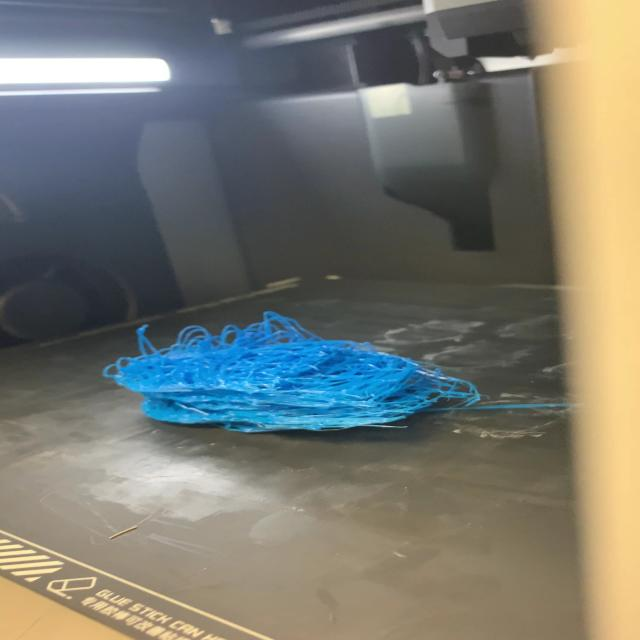spaghetti: (106, 303, 518, 447)
